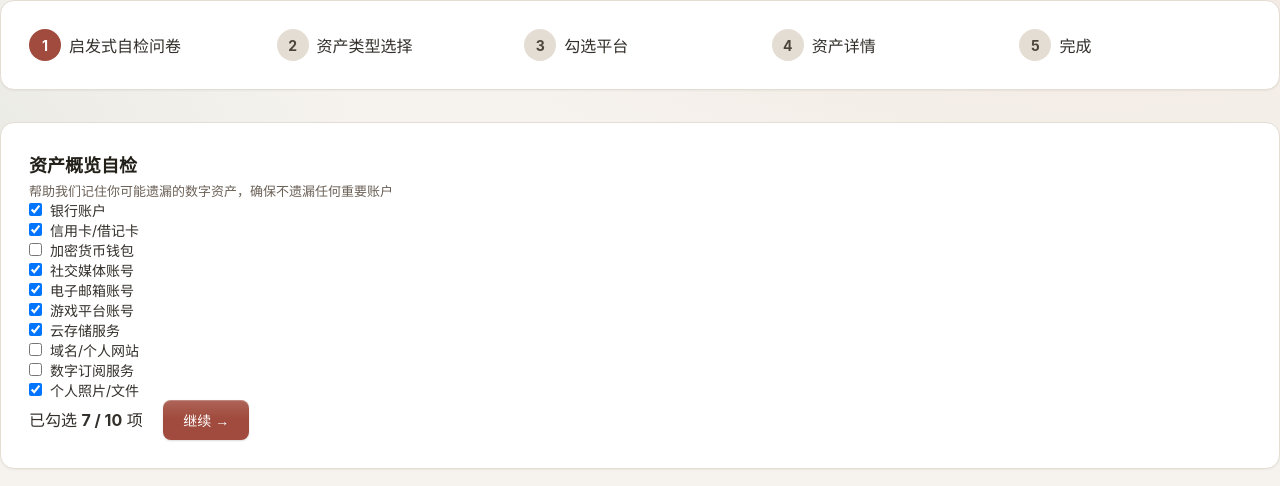
Scenario: 自检问卷 › 勾选未选项后计数增加，取消已选项后减少
What coordinates should you click on to do the following:
click the checkbox labelled "加密货币钱包"
I would click on:
 (36, 250)
Its box is [29,243,42,256].
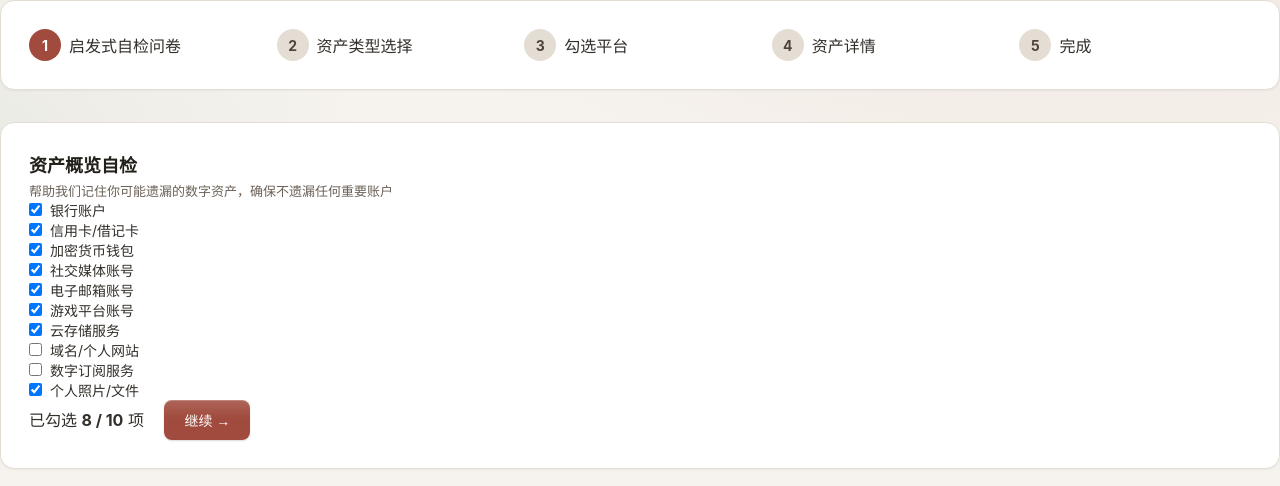
Expected: the element with class "checklist-footer" shows "8 / 10", [82,410,123,430]
What coordinates should you click on to do the following:
click the checkbox labelled "银行账户"
I would click on:
 (36, 210)
Its box is [29,203,42,216].
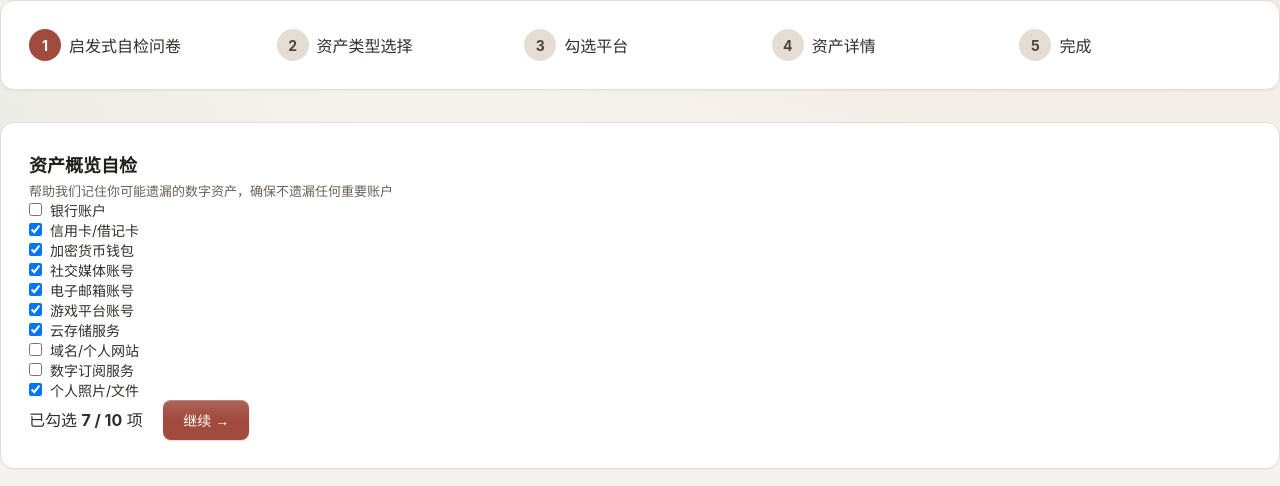
Expected: the element with class "checklist-footer" shows "7 / 10", [82,410,122,430]
